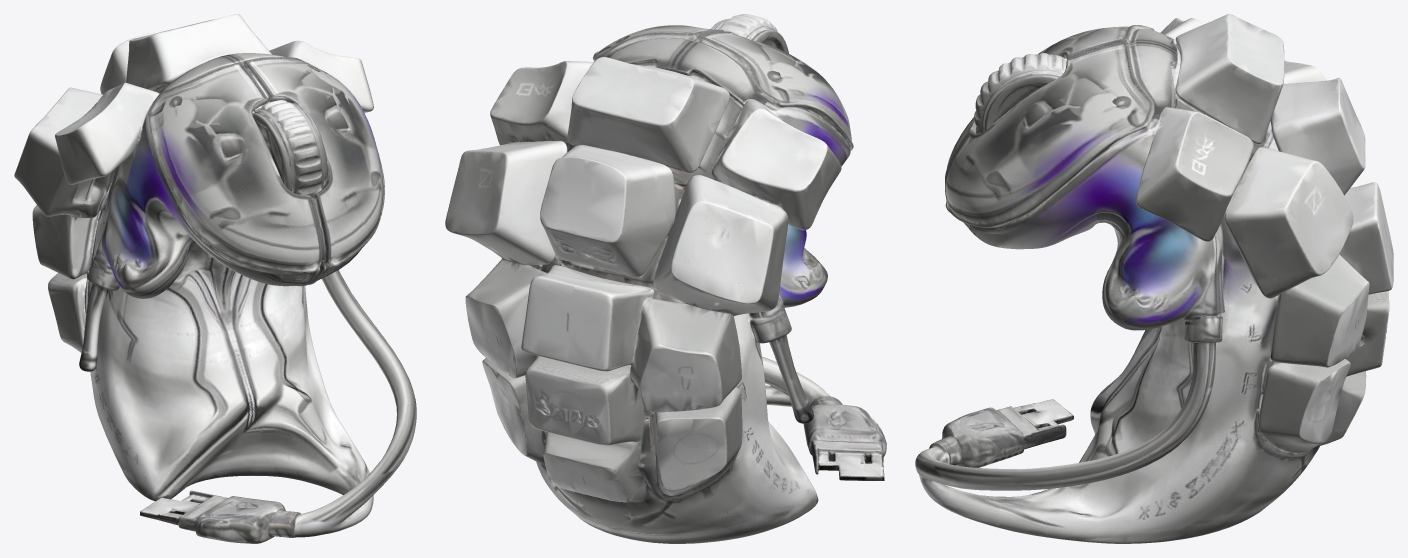
File: creature.glb
3 views of the same model, side by side, from view 1: azimuth 30°, elevation 25°; view 2: azimuth 150°, elevation 25°; view 3: azimuth 270°, elevation 25° (orthographic). The views are drawn at different scales.
Visible parts, largest first — view 1: mesh_node; view 2: mesh_node; view 3: mesh_node.
Part boxes in pixels (box(x1,y1,x2,y2)): mesh_node: box(14, 14, 416, 543); mesh_node: box(445, 14, 886, 543); mesh_node: box(915, 14, 1393, 543).
Bounding box in the file's own units: 1.39 × 1.9 × 1.81.
Materials: 1 (1 with a texture image).
